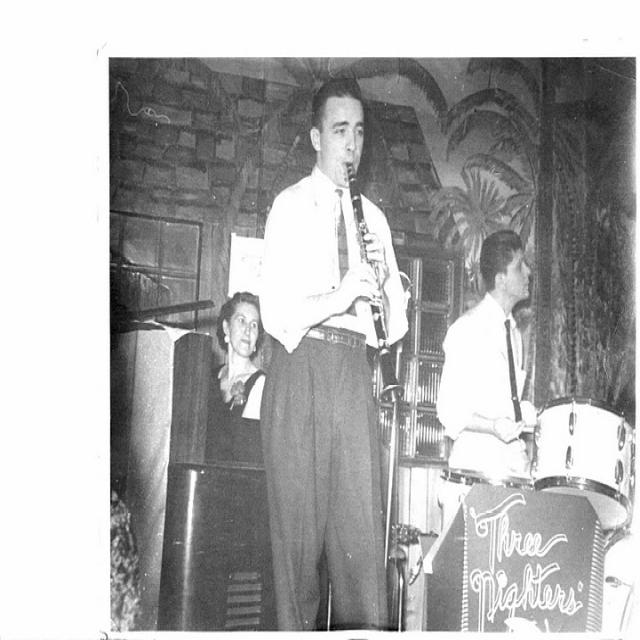clarinet: (346, 162, 406, 404)
drums: (518, 392, 640, 640)
